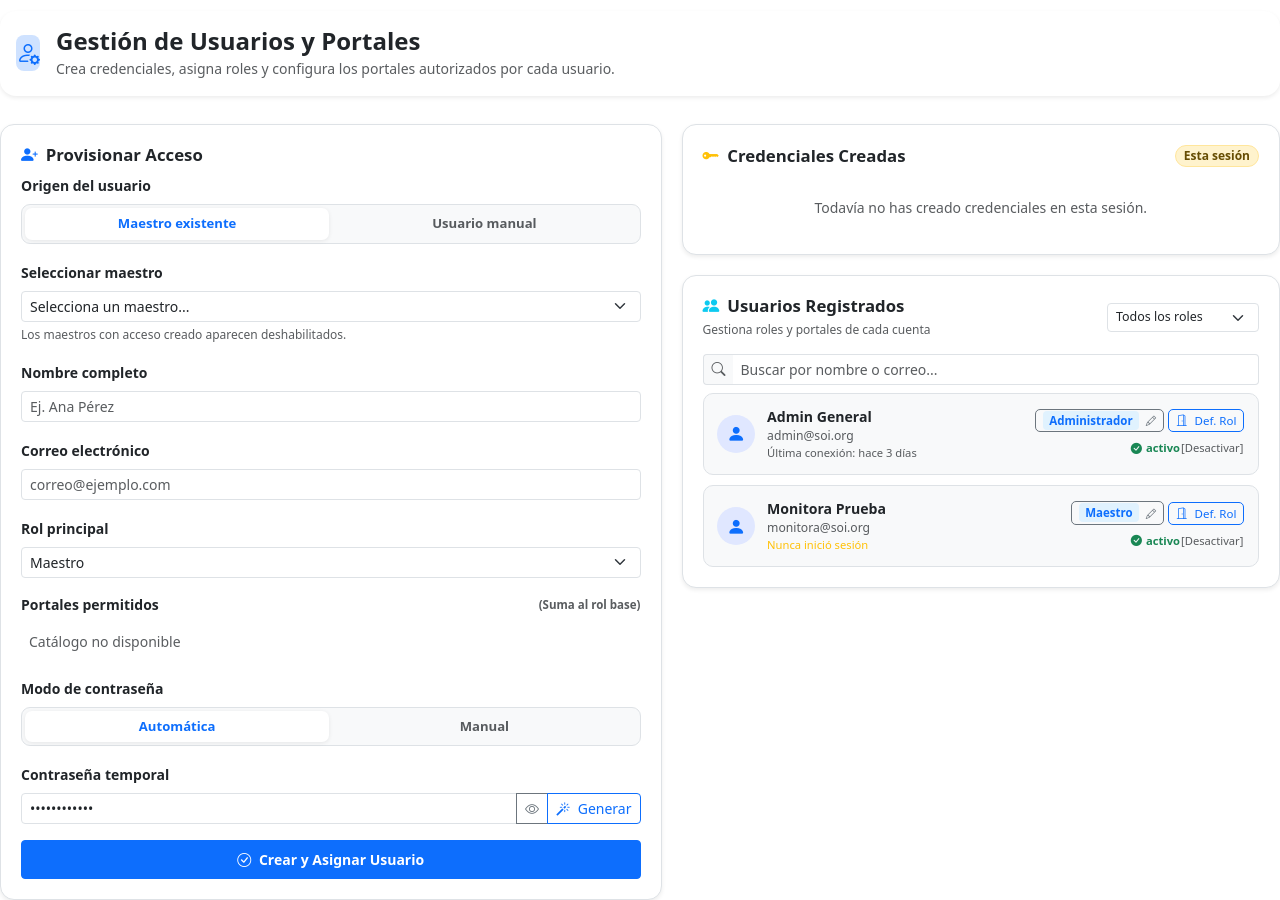
gestionUsuariosView › crea el usuario, muestra las credenciales temporales y refresca el listado
This screenshot has width=1280, height=900.
Select "Ana Pérez · ana@soi.org" in the dropdown with id "gu-maestro-select" at (331, 306), box [21,291,640,322]
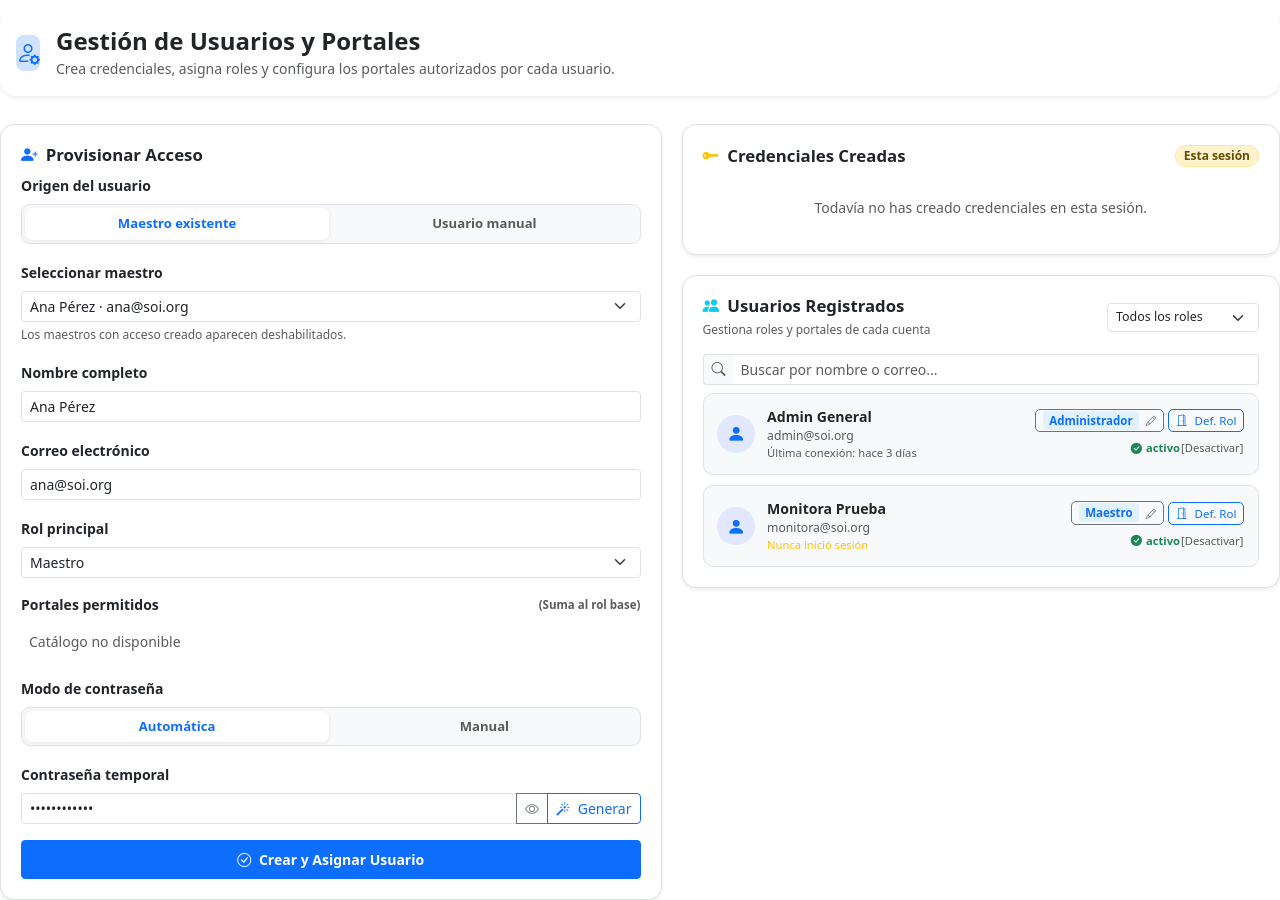
Submit the form with id "gu-form", box [0,124,662,899]
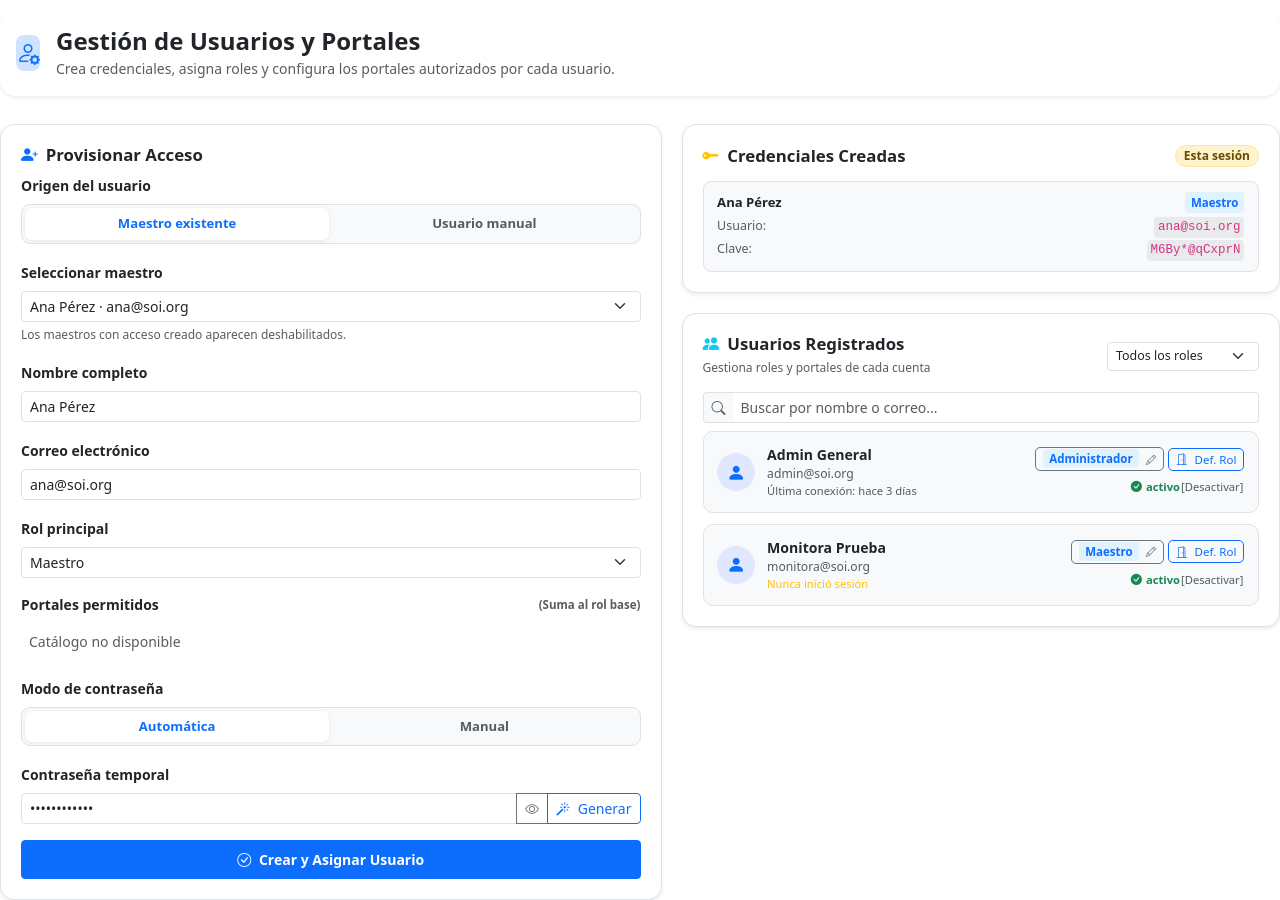
Expected: the element with id "gu-credenciales-list" shows "ana@soi.org", [1158,220,1240,234]
